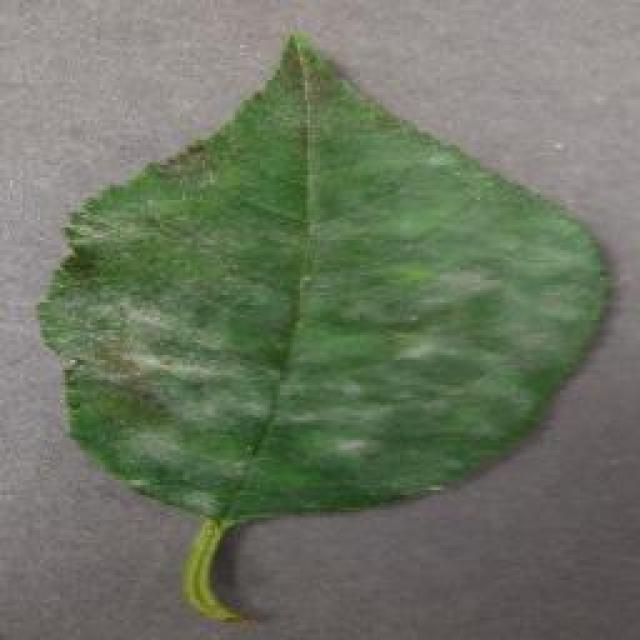Cherry___Powdery_mildew: (22, 15, 622, 637)
